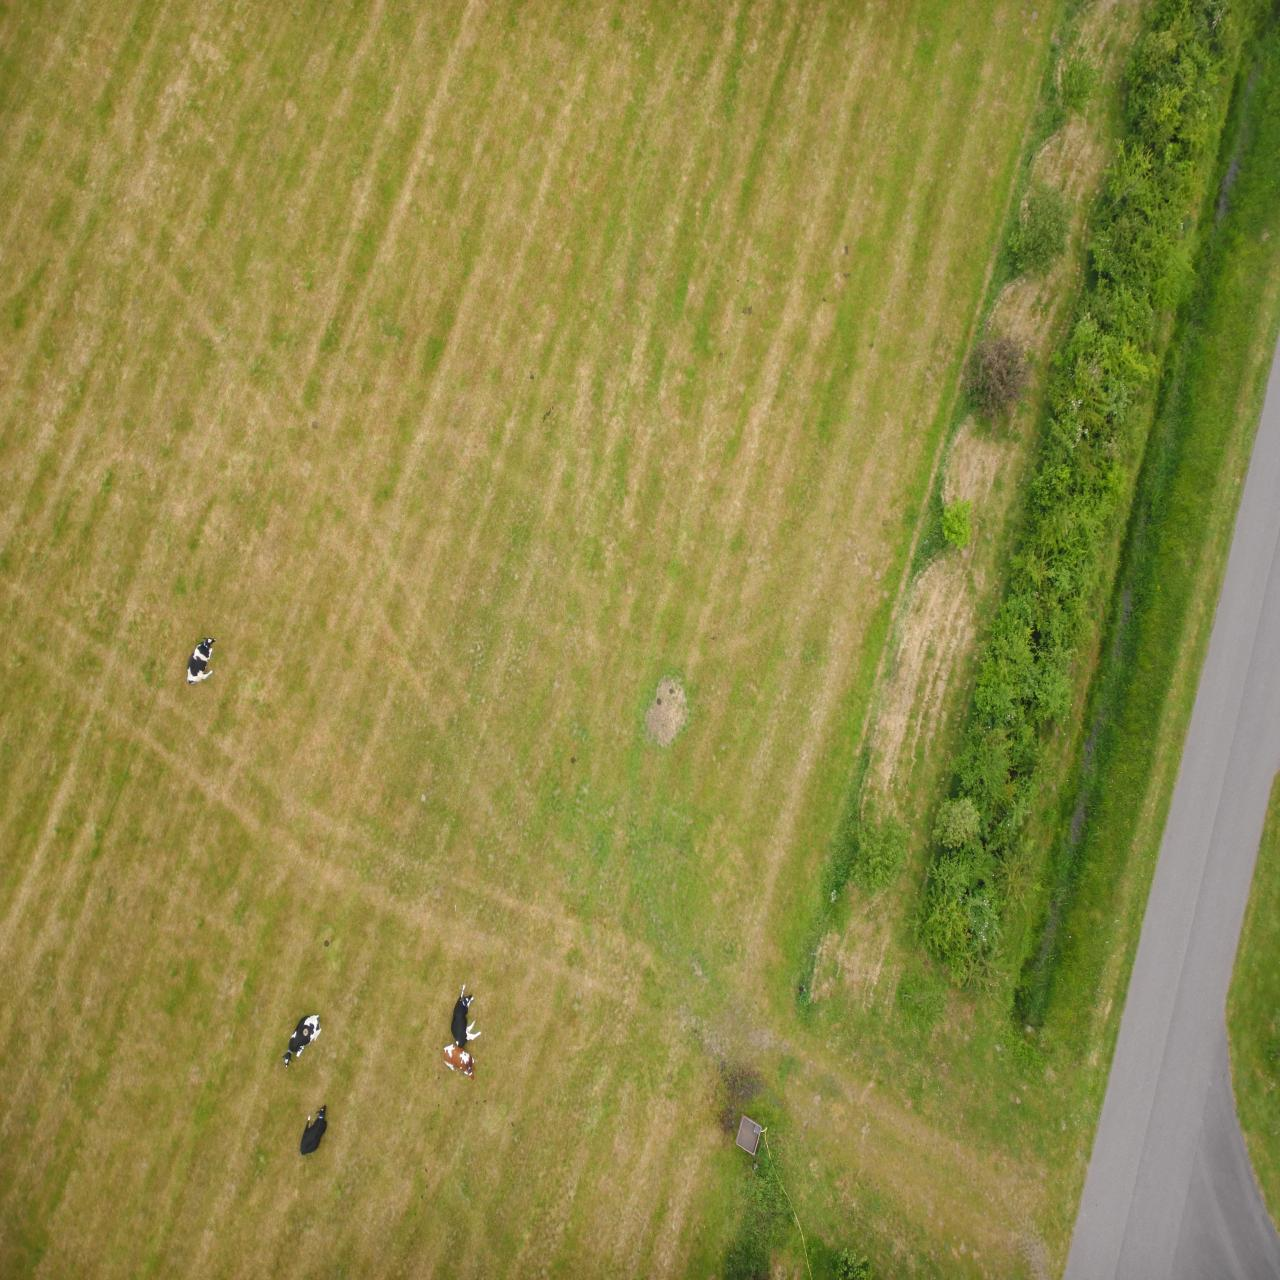cow: (959, 212, 998, 266), (798, 233, 829, 298), (953, 124, 980, 175), (1064, 595, 1092, 642), (805, 198, 837, 236)
